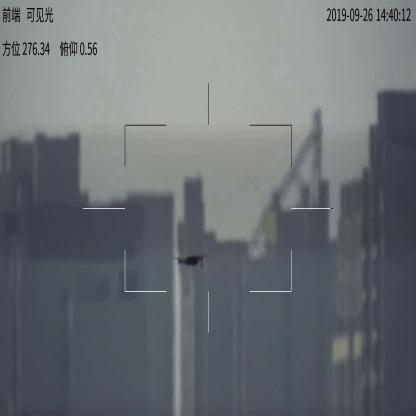uav: (176, 253, 205, 270)
